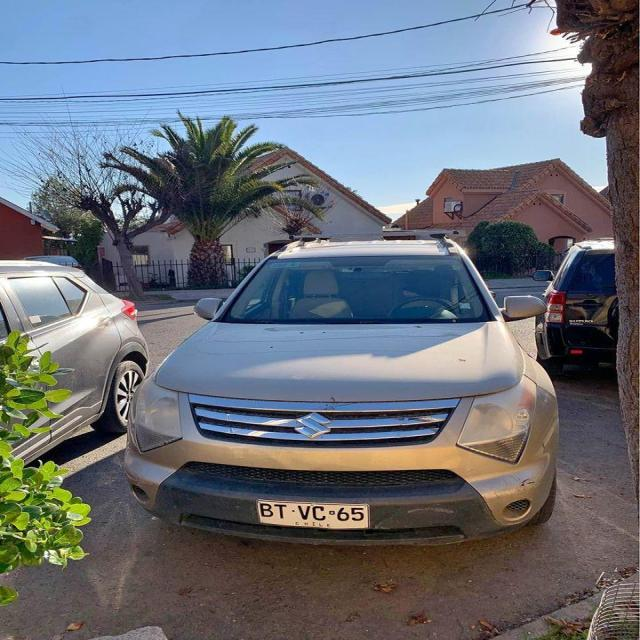patente: (254, 499, 370, 530)
